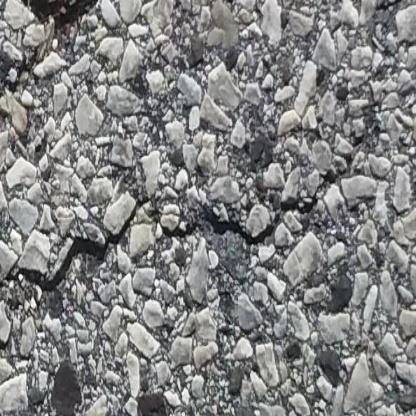Cracks: (18, 139, 372, 294), (0, 0, 137, 41)
